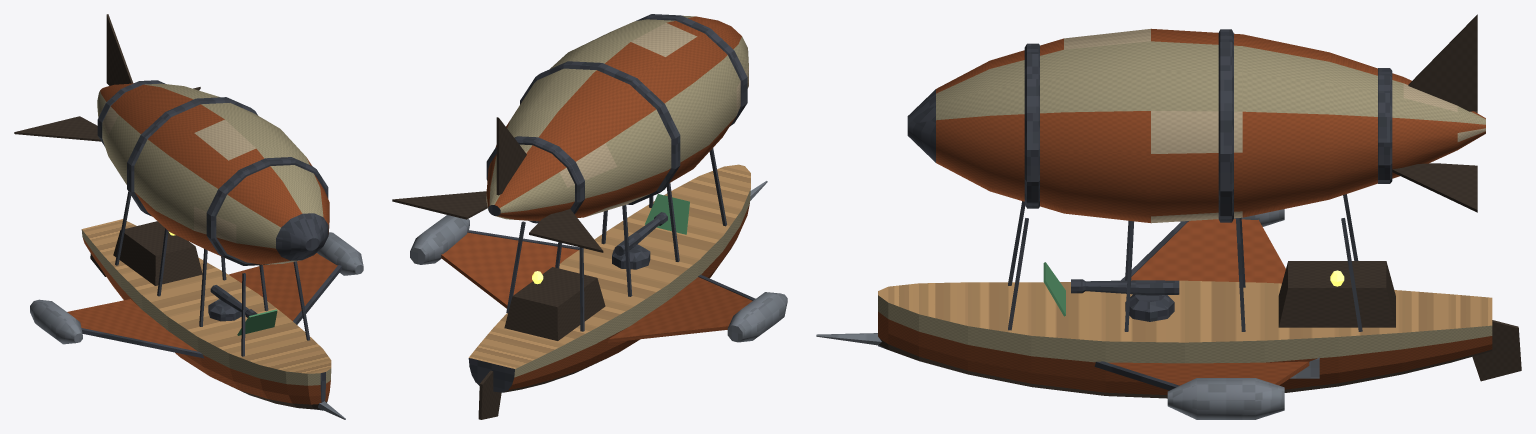
File: SM_Ship_RustWing_HQ.glb
The picture shows the model from 3 angles, left to right: view 1: azimuth 30°, elevation 25°; view 2: azimuth 150°, elevation 25°; view 3: azimuth 270°, elevation 25°; orthographic projection. The views are drawn at different scales.
Visible parts, largest first — view 1: SM_Ship_RustWing_HQ; view 2: SM_Ship_RustWing_HQ; view 3: SM_Ship_RustWing_HQ.
Part boxes in pixels (bbox=[...]): SM_Ship_RustWing_HQ: bbox=[14, 14, 363, 419]; SM_Ship_RustWing_HQ: bbox=[392, 14, 787, 419]; SM_Ship_RustWing_HQ: bbox=[816, 14, 1521, 419].
Bounding box in the file's own units: 8.37 × 7.05 × 12.05.
1 material, 1 textured.
